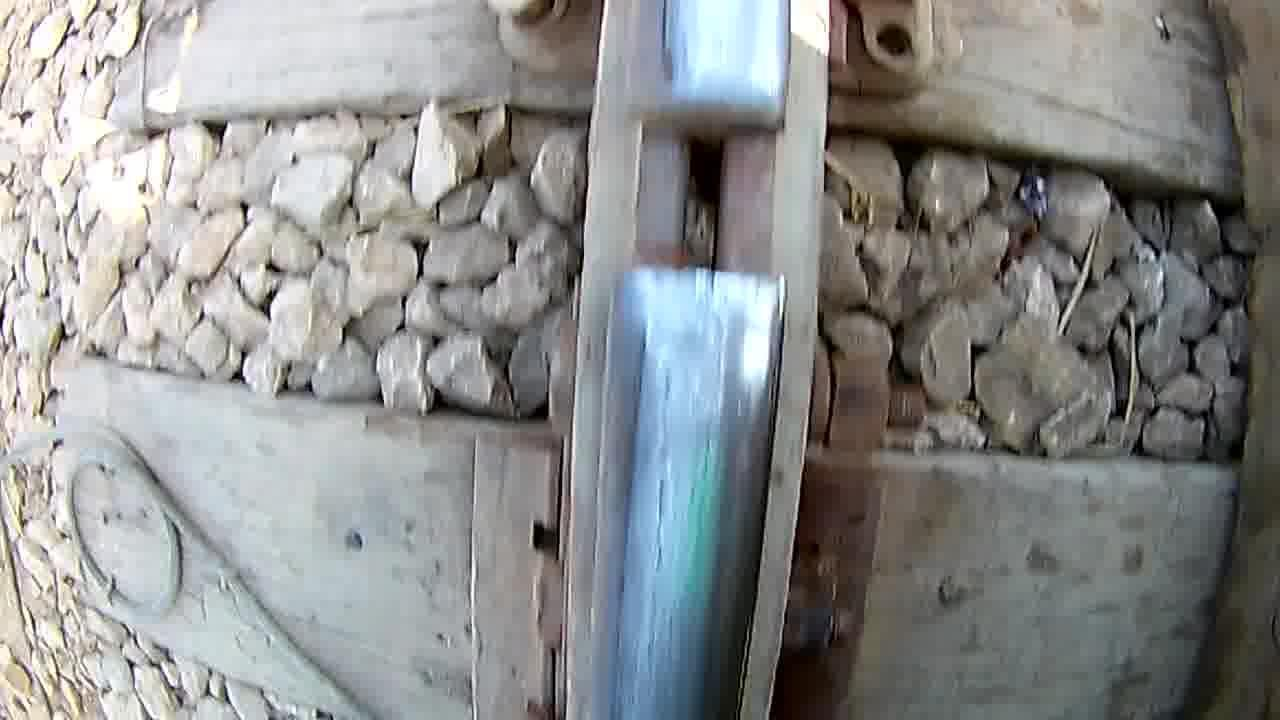crack: (603, 62, 821, 323)
